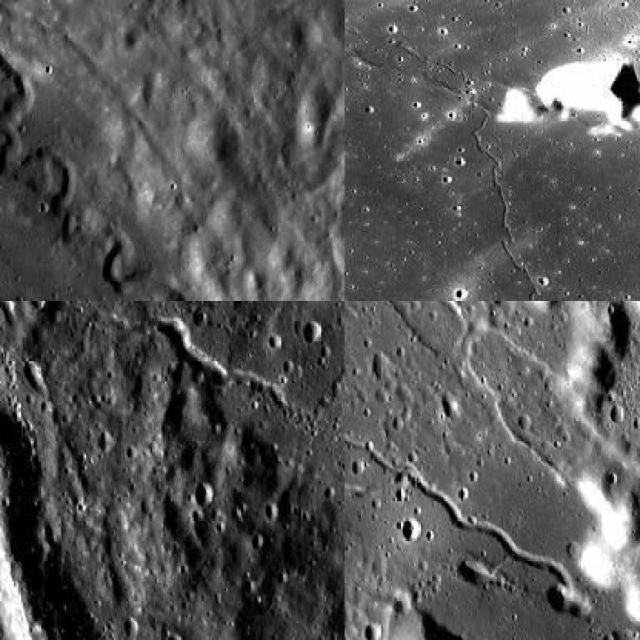rille: (344, 0, 592, 298), (0, 39, 195, 298), (345, 415, 589, 614), (0, 300, 343, 429)
